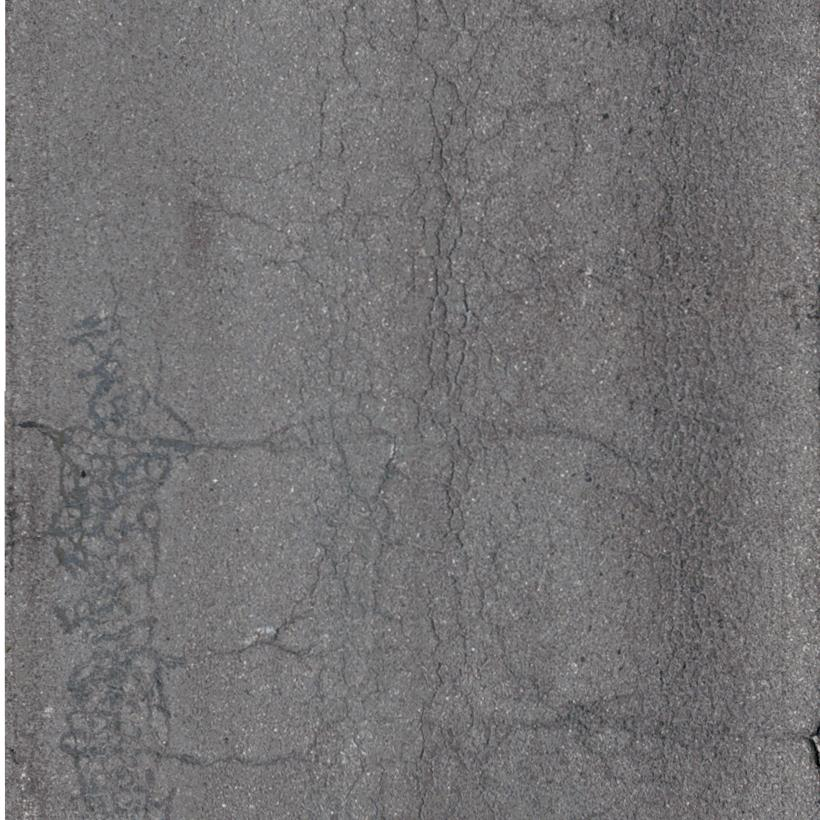GRIETA: (191, 180, 265, 227), (531, 426, 617, 458), (174, 753, 276, 769), (199, 440, 259, 451)
PIEL DE COCODRILO: (318, 0, 588, 819), (560, 0, 775, 819), (247, 0, 416, 787), (15, 298, 200, 819)
